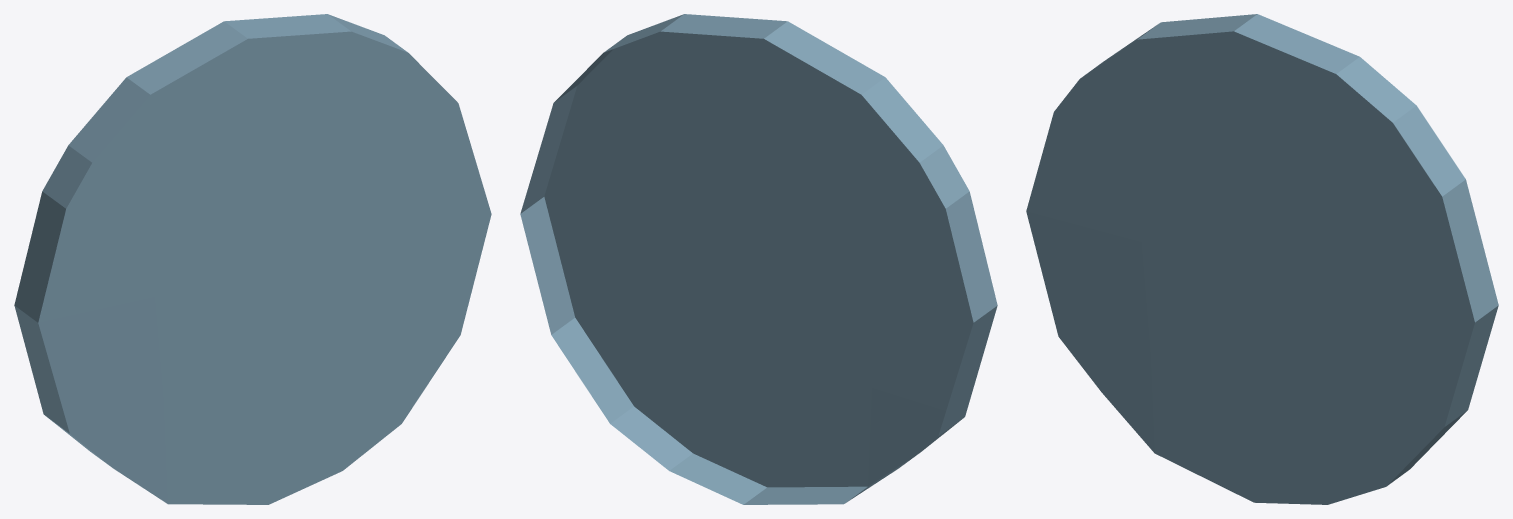
The model's file is Mirror_8.fbx.
3 views of the same model, side by side, from view 1: azimuth 30°, elevation 25°; view 2: azimuth 150°, elevation 25°; view 3: azimuth 330°, elevation 25° (orthographic).
Parts seen in each view (by area): view 1: Mirror_8; view 2: Mirror_8; view 3: Mirror_8.
Boxes of the visible parts, x1=… form: Mirror_8: x1=14, y1=14, x2=491, y2=504; Mirror_8: x1=520, y1=14, x2=997, y2=504; Mirror_8: x1=1026, y1=14, x2=1498, y2=504.
Bounding box in the file's own units: 65.4 × 6.74 × 64.94.
